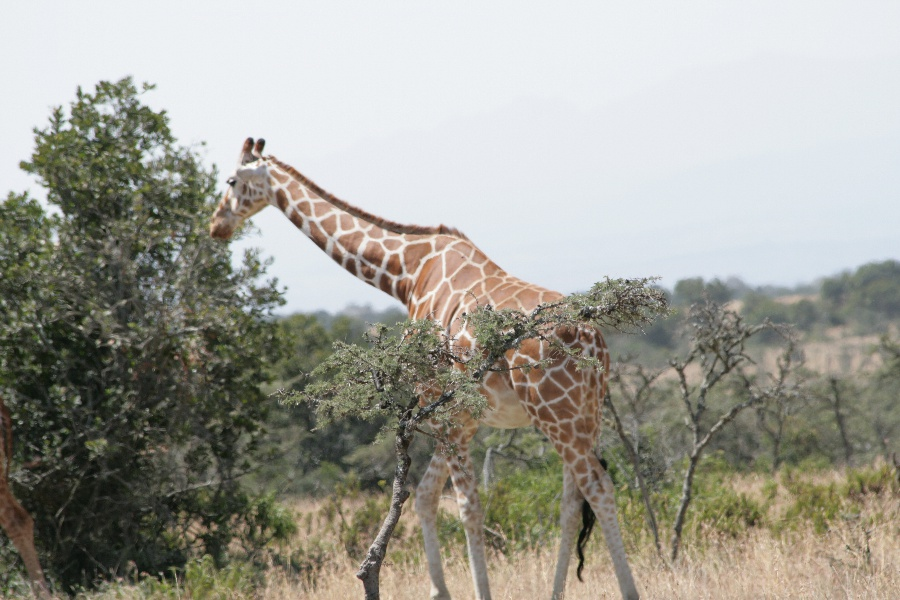giraffe: (192, 128, 650, 593)
